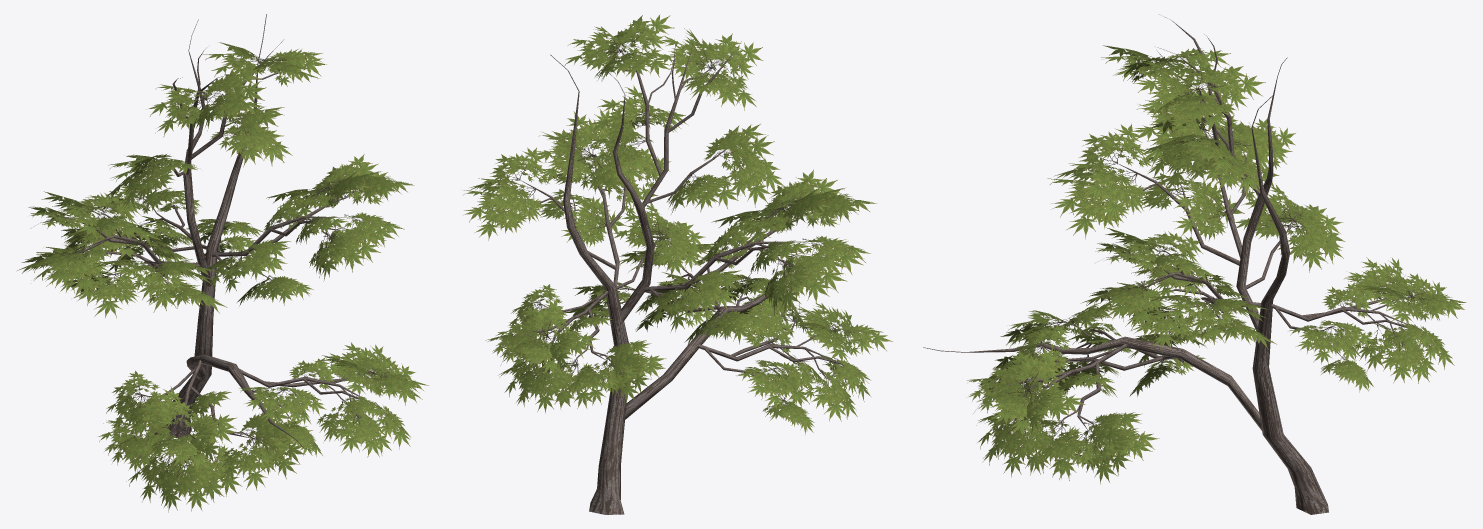
Rendered from Tree_Maple_A_01.fbx.
3 renders of one model, left to right at view 1: azimuth 30°, elevation 25°; view 2: azimuth 150°, elevation 25°; view 3: azimuth 270°, elevation 25°, orthographic. The views are drawn at different scales.
Parts seen in each view (by area): view 1: Tree_Maple_A_01; view 2: Tree_Maple_A_01; view 3: Tree_Maple_A_01.
Boxes of the visible parts, x1,y1,x2,y2 form: Tree_Maple_A_01: (17,14,428,512); Tree_Maple_A_01: (463,15,892,514); Tree_Maple_A_01: (923,14,1466,514).
Size of the model in its own units: 4.14 by 4.41 by 4.68.
